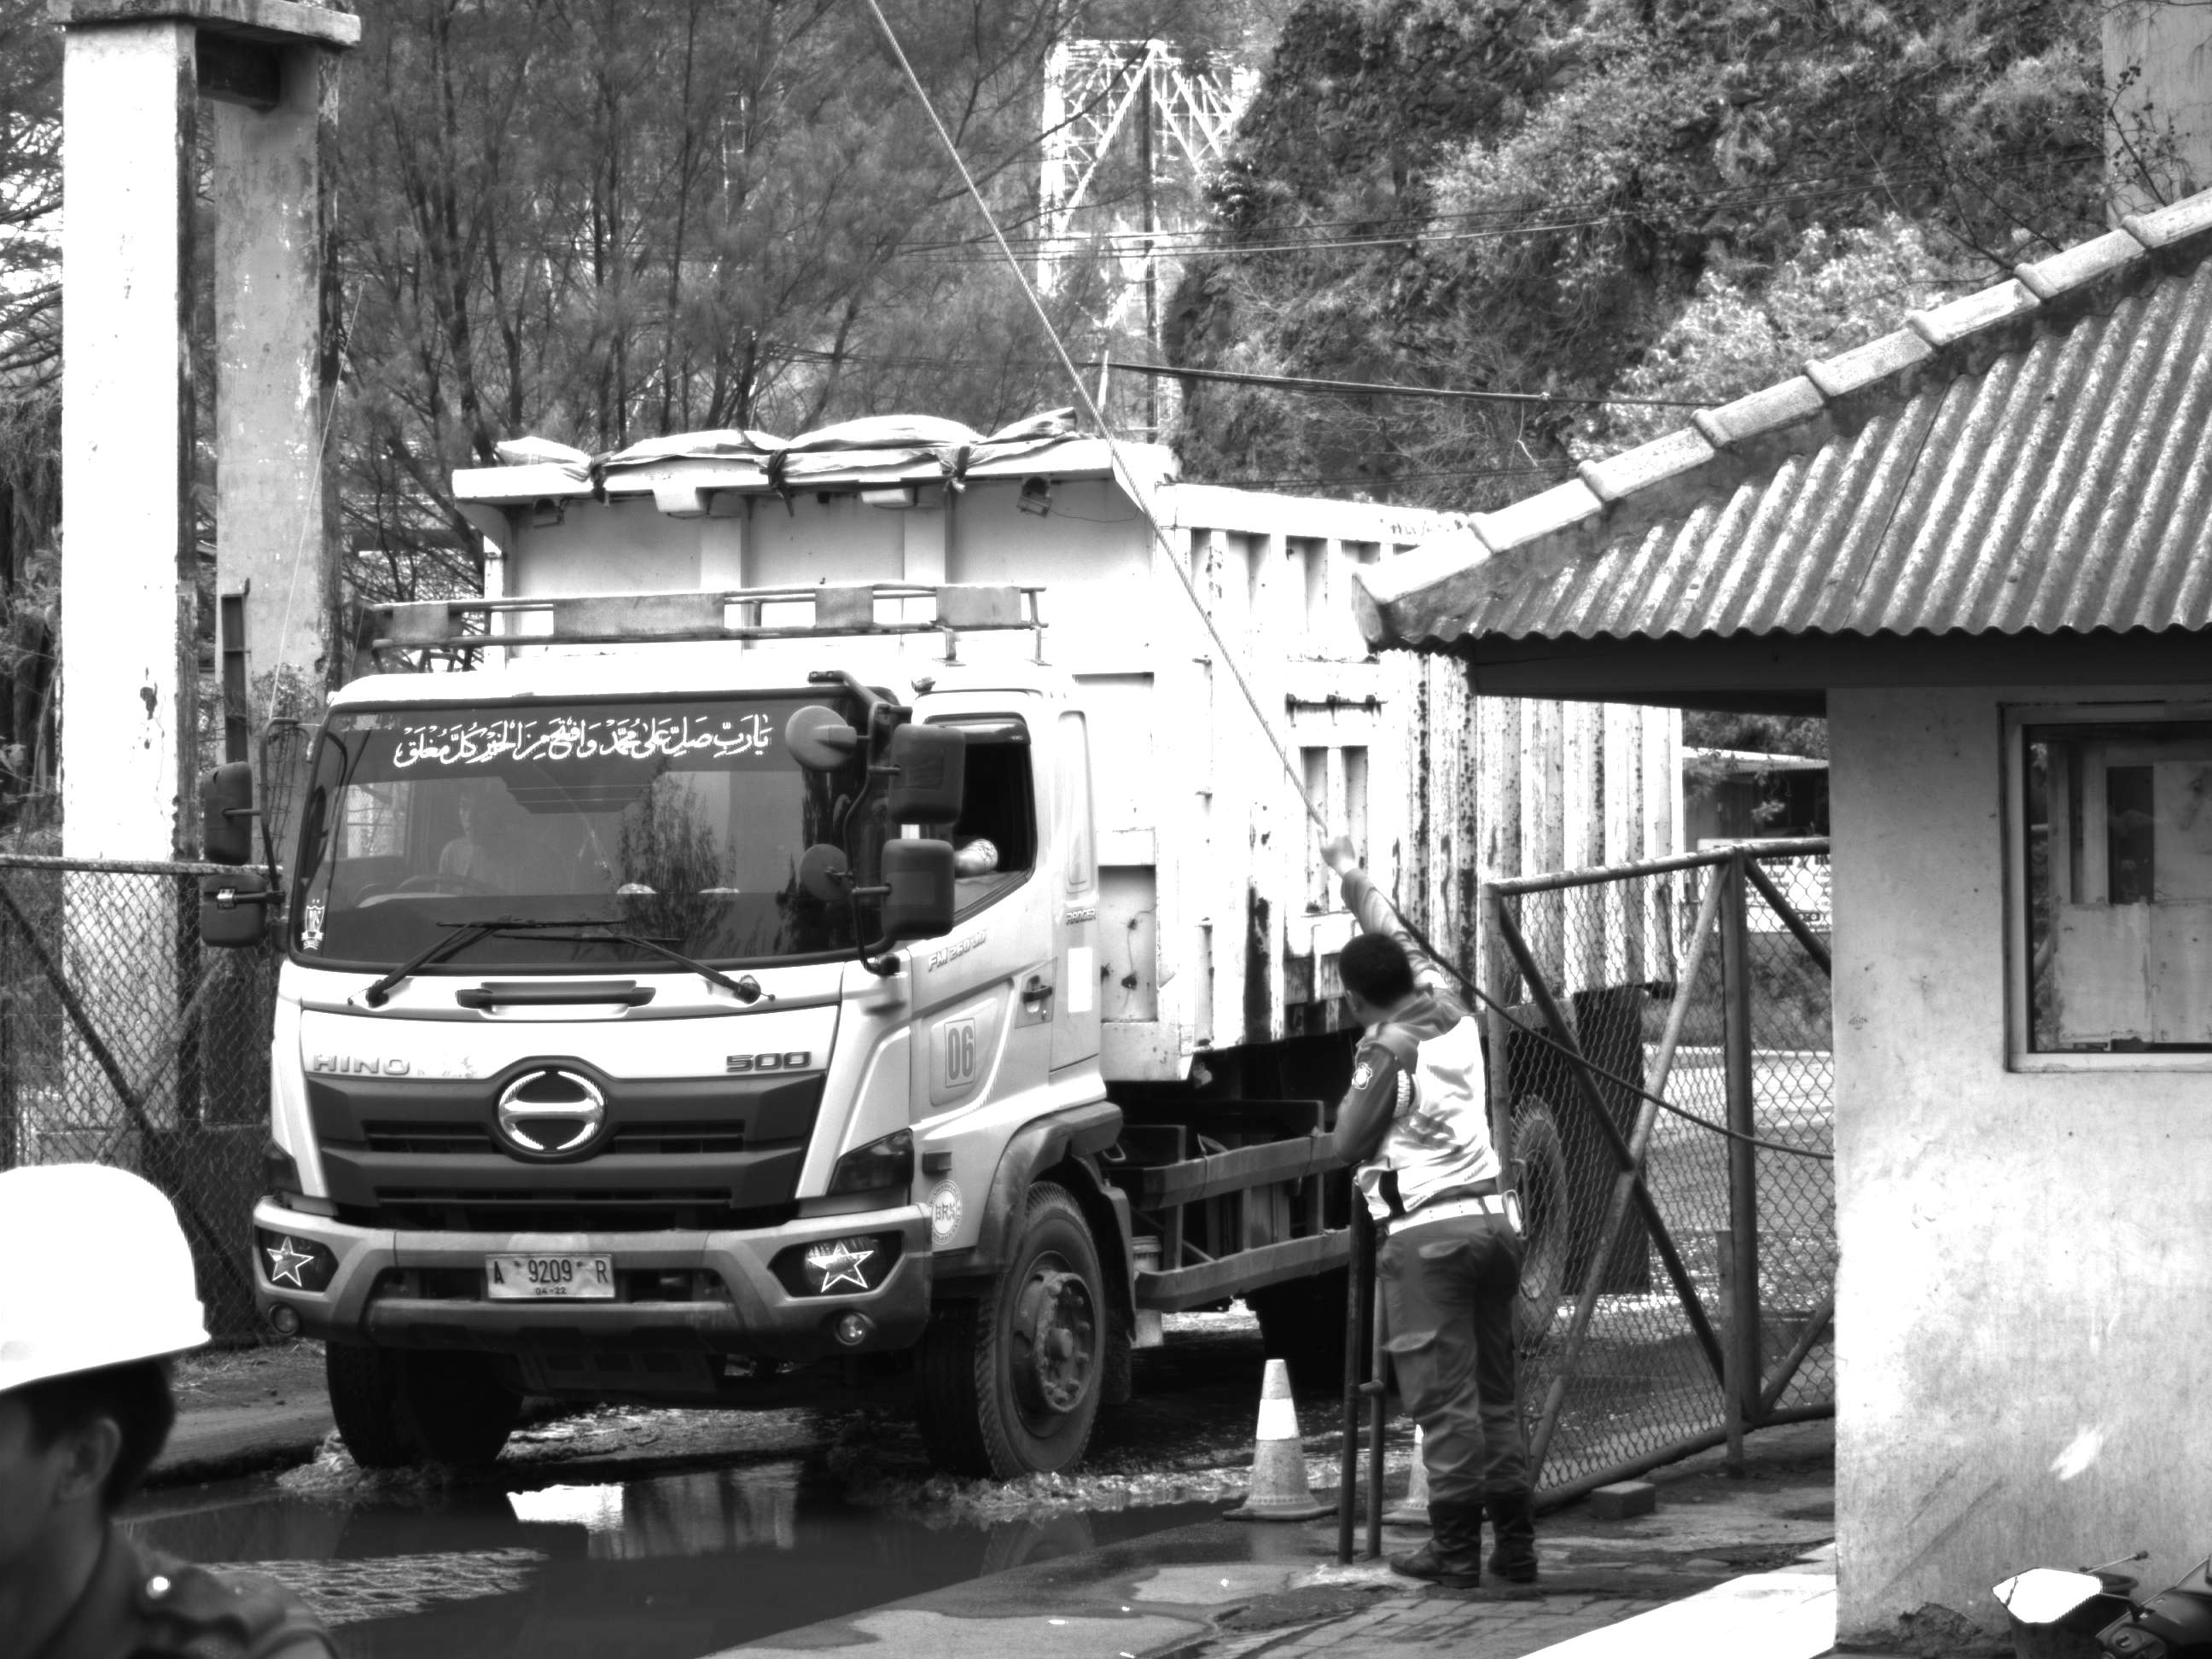day_truck_front: (192, 568, 1132, 1499)
plate: (482, 1254, 620, 1307)
